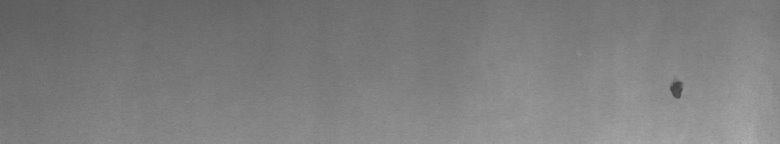fi: (664, 72, 688, 104)
